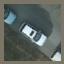car: (18, 20, 48, 48)
